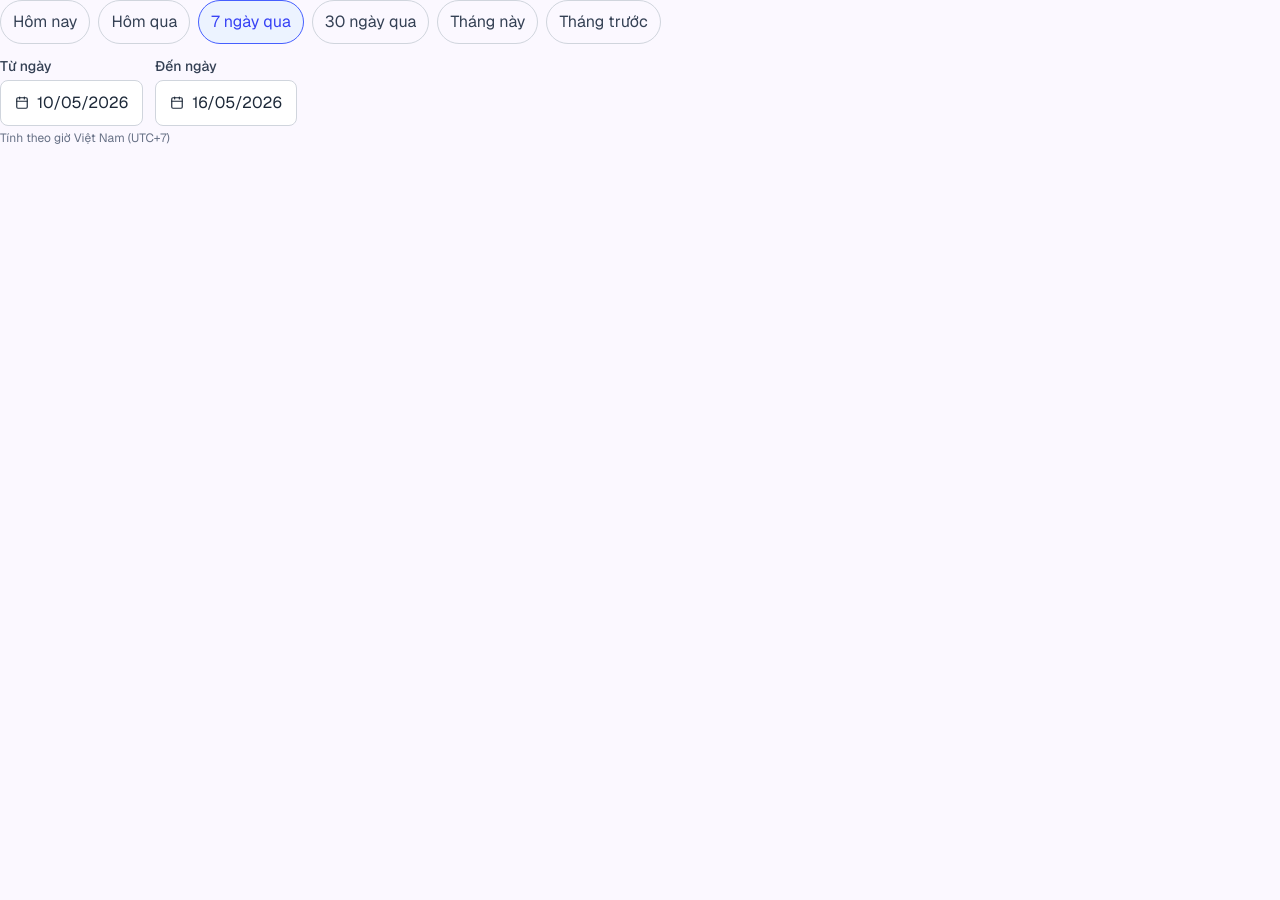
Test: DateRangeReportFilter › opens calendar popover when from-date button clicked
What coordinates should you click on to do the following:
click the button with id "report-date-from"
I would click on:
 (72, 103)
Its box is [0,80,143,126].
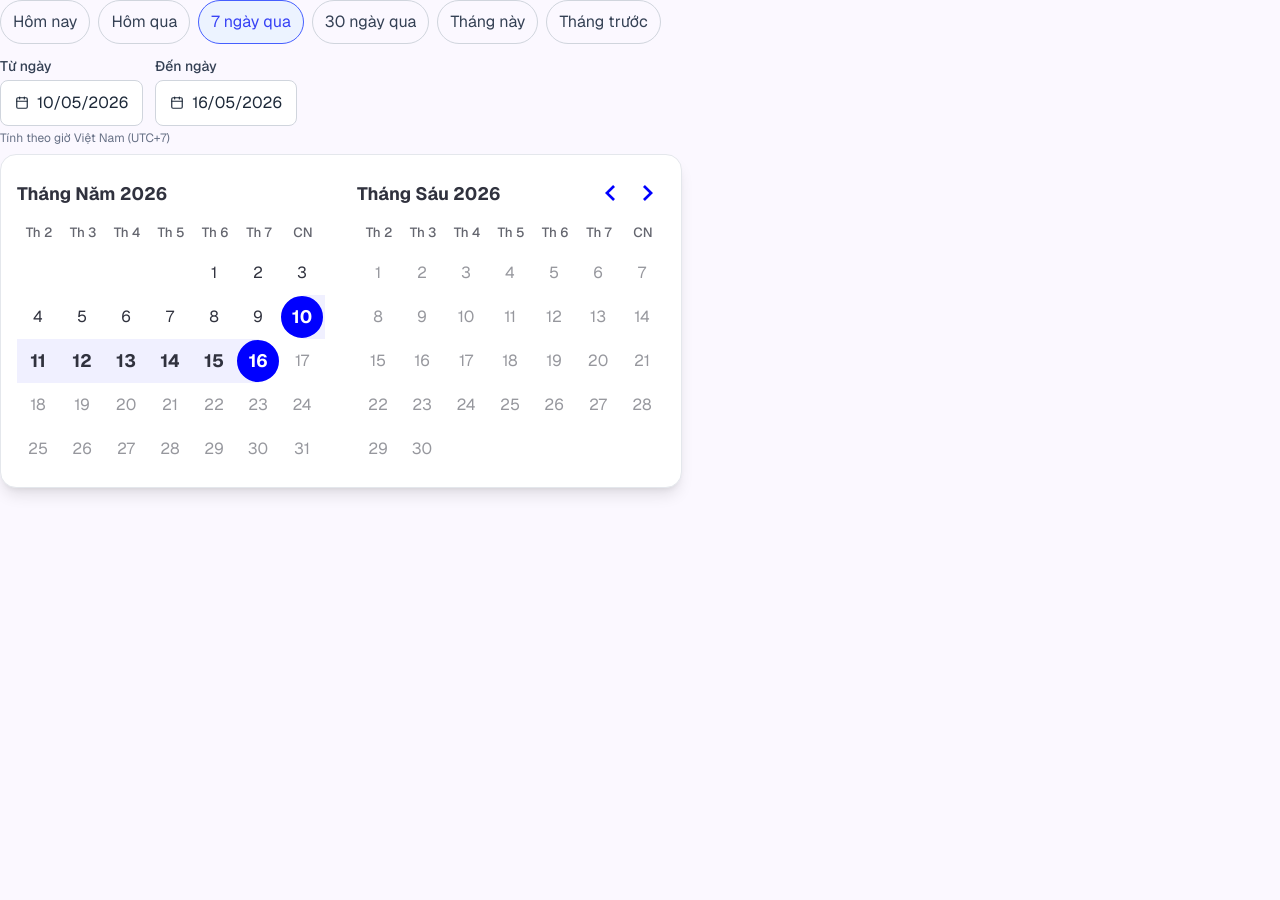
Result: the dialog is shown at [0,154,682,488]
